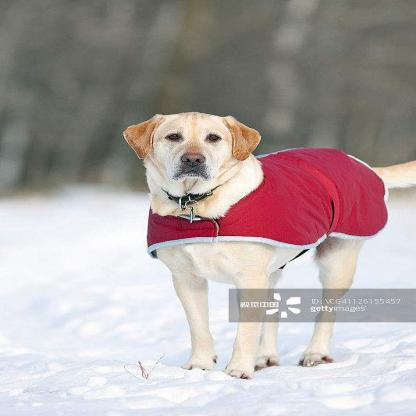dog: (115, 110, 392, 373)
